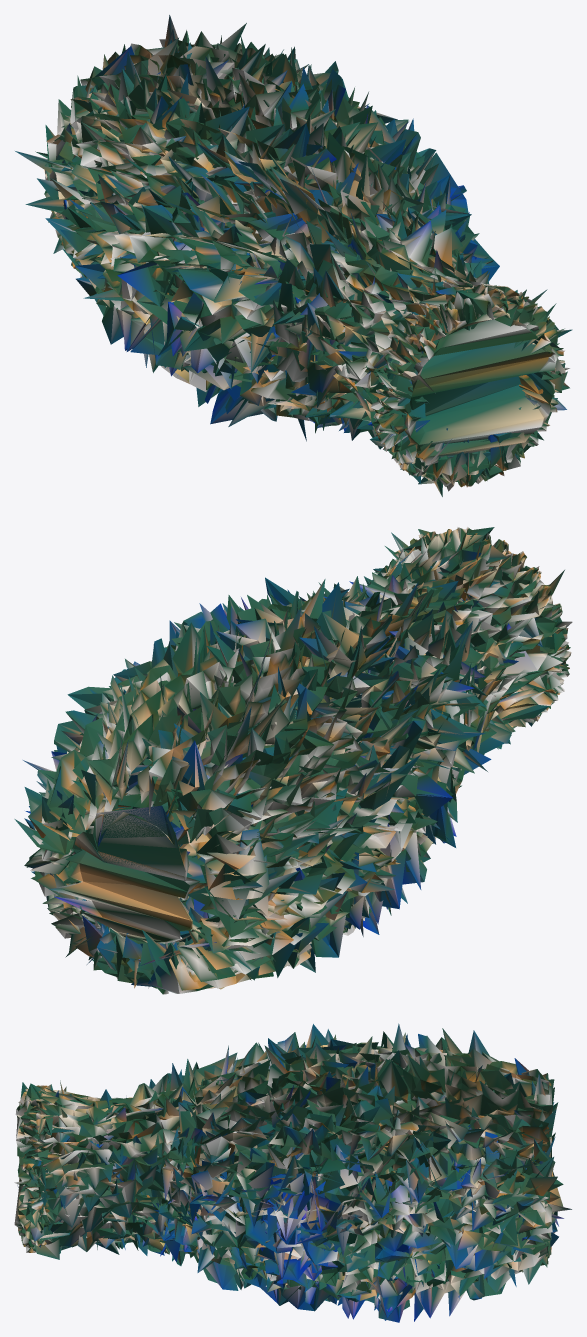
Rendered from lamp_shade_10_final400.obj.
3 views of the same model, one above another, from view 1: azimuth 30°, elevation 25°; view 2: azimuth 150°, elevation 25°; view 3: azimuth 270°, elevation 25° (orthographic). The views are drawn at different scales.
Size of the model in its own units: 1.03 by 1 by 1.9.
